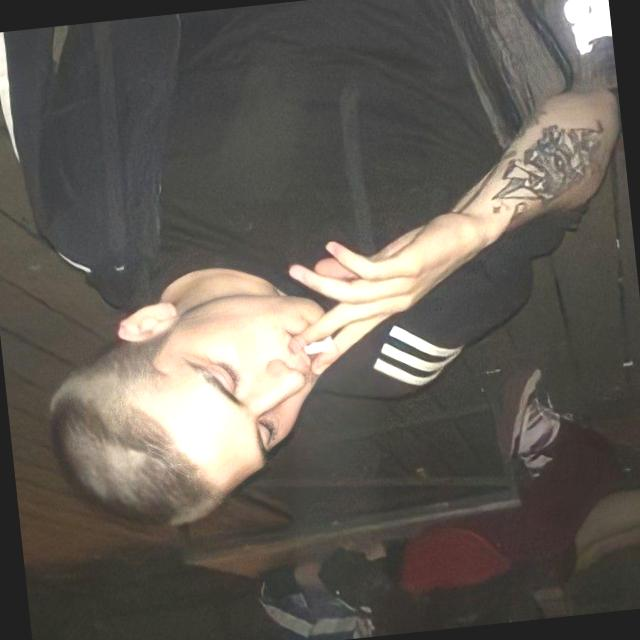smoke: (290, 326, 344, 371)
